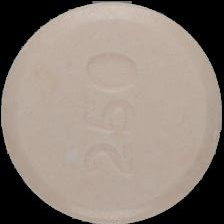51655-685: (0, 0, 224, 224)
